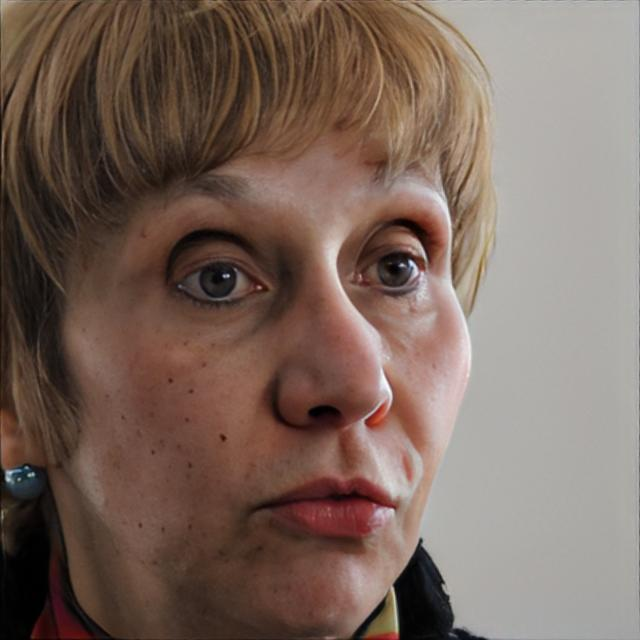surprise: (58, 67, 474, 640)
